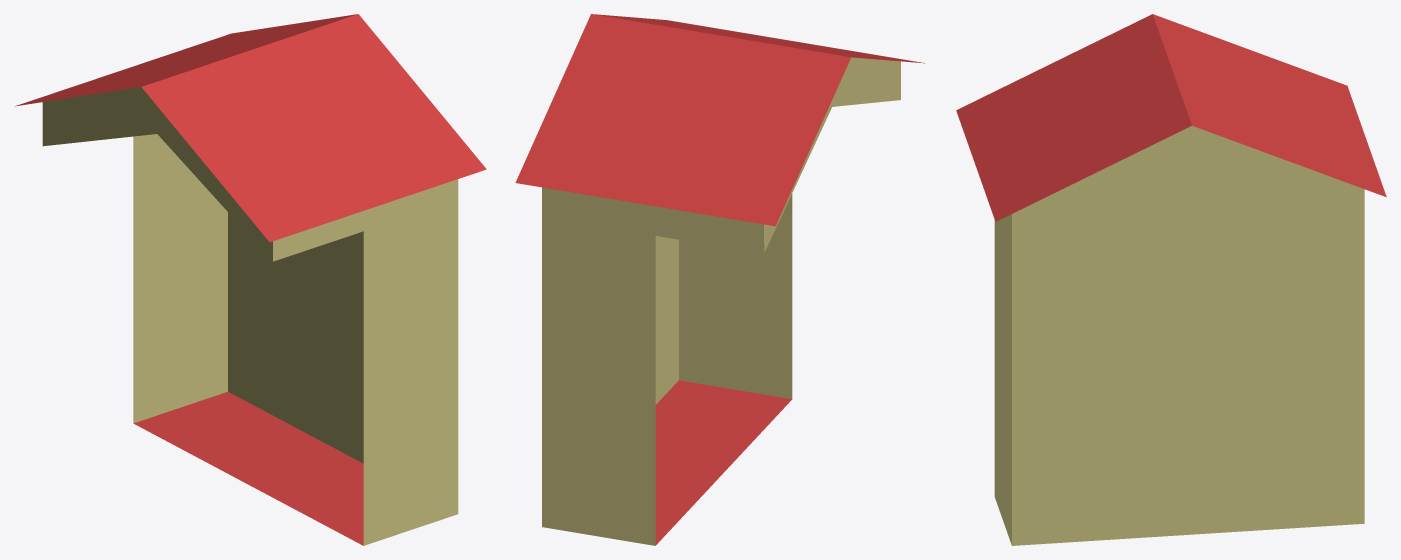
3 renders of one model, left to right at view 1: azimuth 30°, elevation 25°; view 2: azimuth 150°, elevation 25°; view 3: azimuth 270°, elevation 25°, orthographic. The views are drawn at different scales.
Size of the model in its own units: 8.25 by 11.01 by 11.77.
